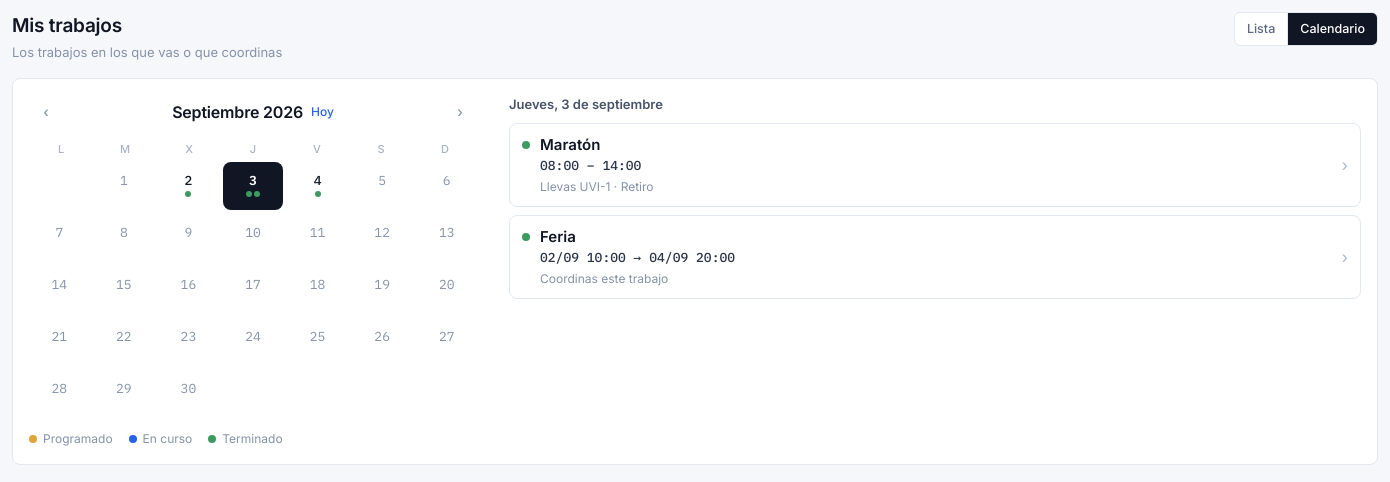
MisTrabajos › calendario › elegir otro día enseña lo suyo; un día vacío lo dice
The image size is (1390, 482).
Click the button named "4 de septiembre, 1 trabajo".
click(318, 186)  # box [287, 162, 348, 210]
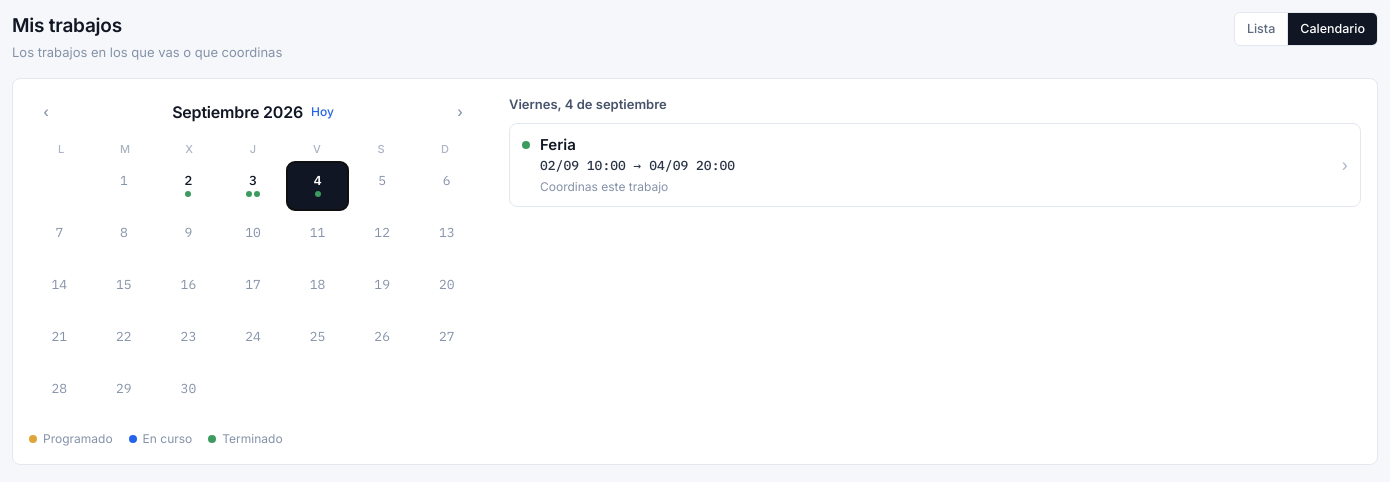
Now the number of buttons with test id "entrada-calendario" is 1, box [509, 122, 1361, 206]
Click the button named "10 de septiembre".
click(253, 238)  # box [223, 214, 283, 262]
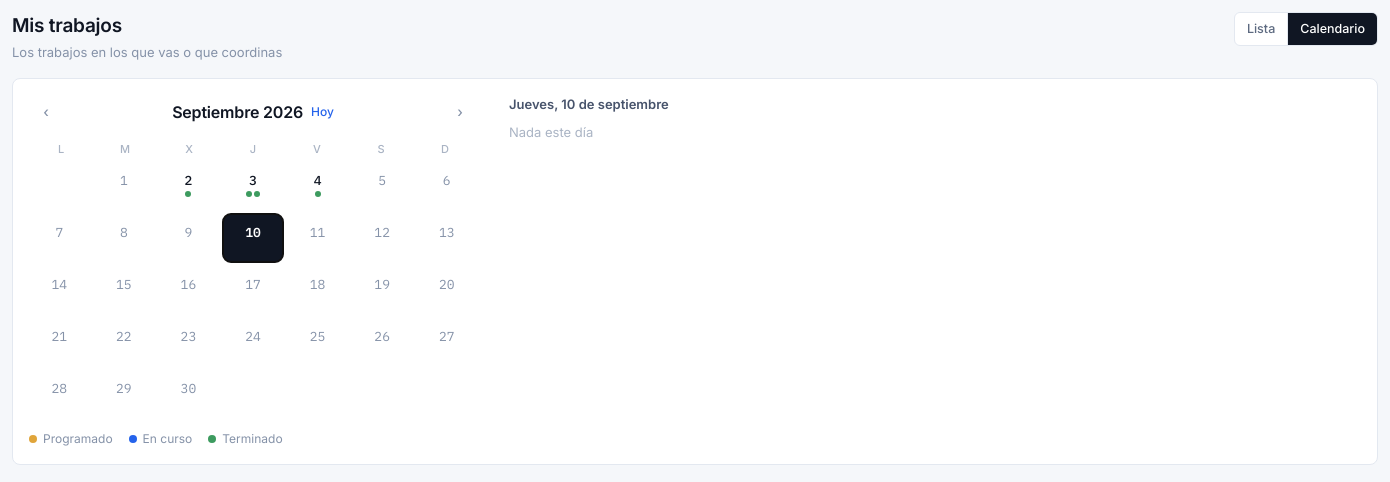
Now the button with test id "entrada-calendario" is gone
Now the text "Nada este día" is shown, box [509, 124, 593, 140]
